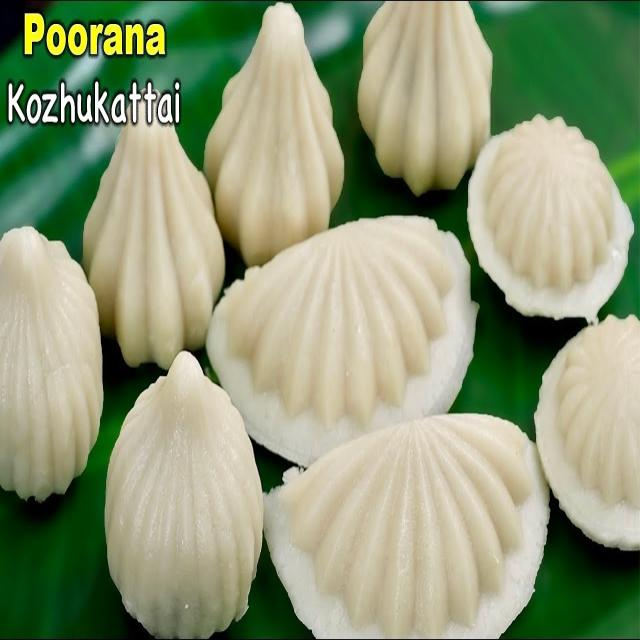poorna kolukattai: (3, 0, 640, 640)
